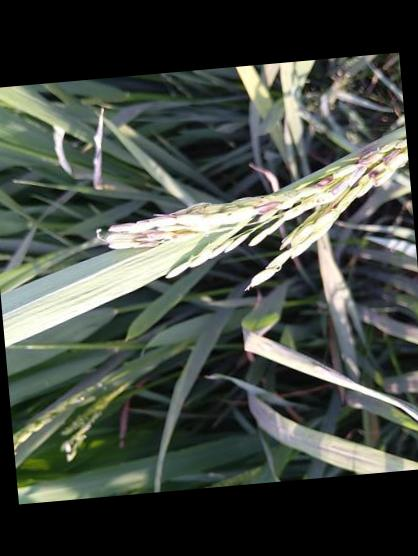Panicle Blight: (105, 214, 183, 249), (384, 147, 405, 164), (358, 152, 376, 171), (256, 200, 281, 213), (369, 169, 385, 184), (315, 175, 334, 186), (333, 181, 342, 195), (322, 204, 332, 214)
